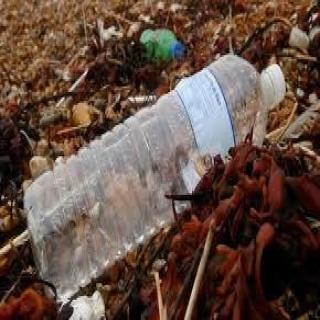Plastic-bottle: (24, 53, 288, 308)
